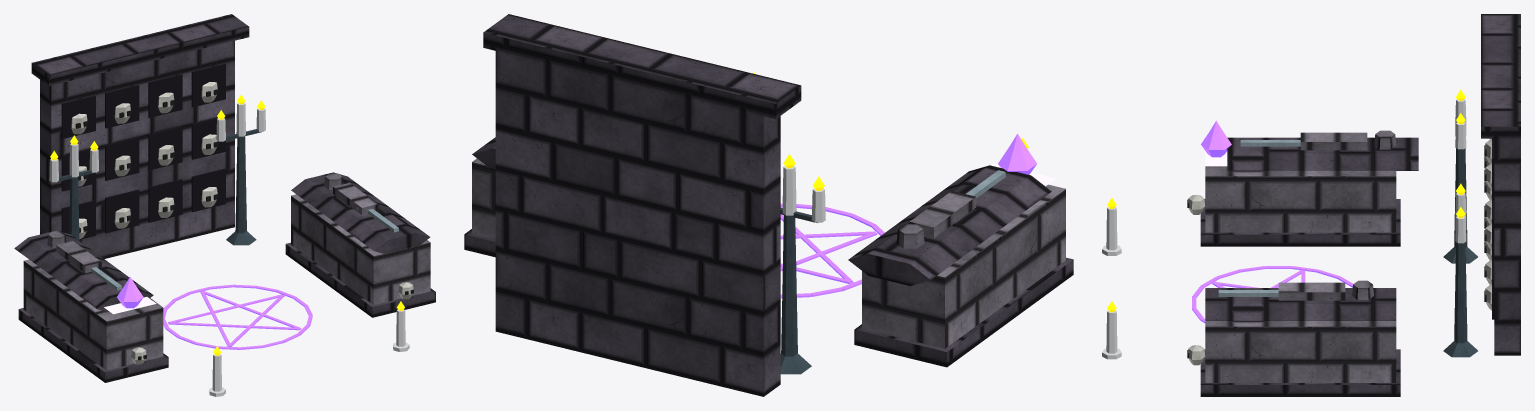
Rendered from crypt_1.glb.
3 views of the same model, side by side, from view 1: azimuth 30°, elevation 25°; view 2: azimuth 150°, elevation 25°; view 3: azimuth 270°, elevation 25° (orthographic). The views are drawn at different scales.
Parts seen in each view (by area): view 1: base_mesh, flame_0_mesh; view 2: base_mesh, flame_0_mesh; view 3: base_mesh, flame_0_mesh.
Boxes of the visible parts, left/top/right/bottom form: base_mesh: left=14, top=14, right=435, bottom=396; flame_0_mesh: left=117, top=276, right=143, bottom=308; base_mesh: left=464, top=14, right=1073, bottom=396; flame_0_mesh: left=998, top=133, right=1036, bottom=174; base_mesh: left=1102, top=14, right=1520, bottom=396; flame_0_mesh: left=1201, top=120, right=1231, bottom=157.
Size of the model in its own units: 1.98 by 1.16 by 1.88.
Materials: 16 (6 with a texture image).
